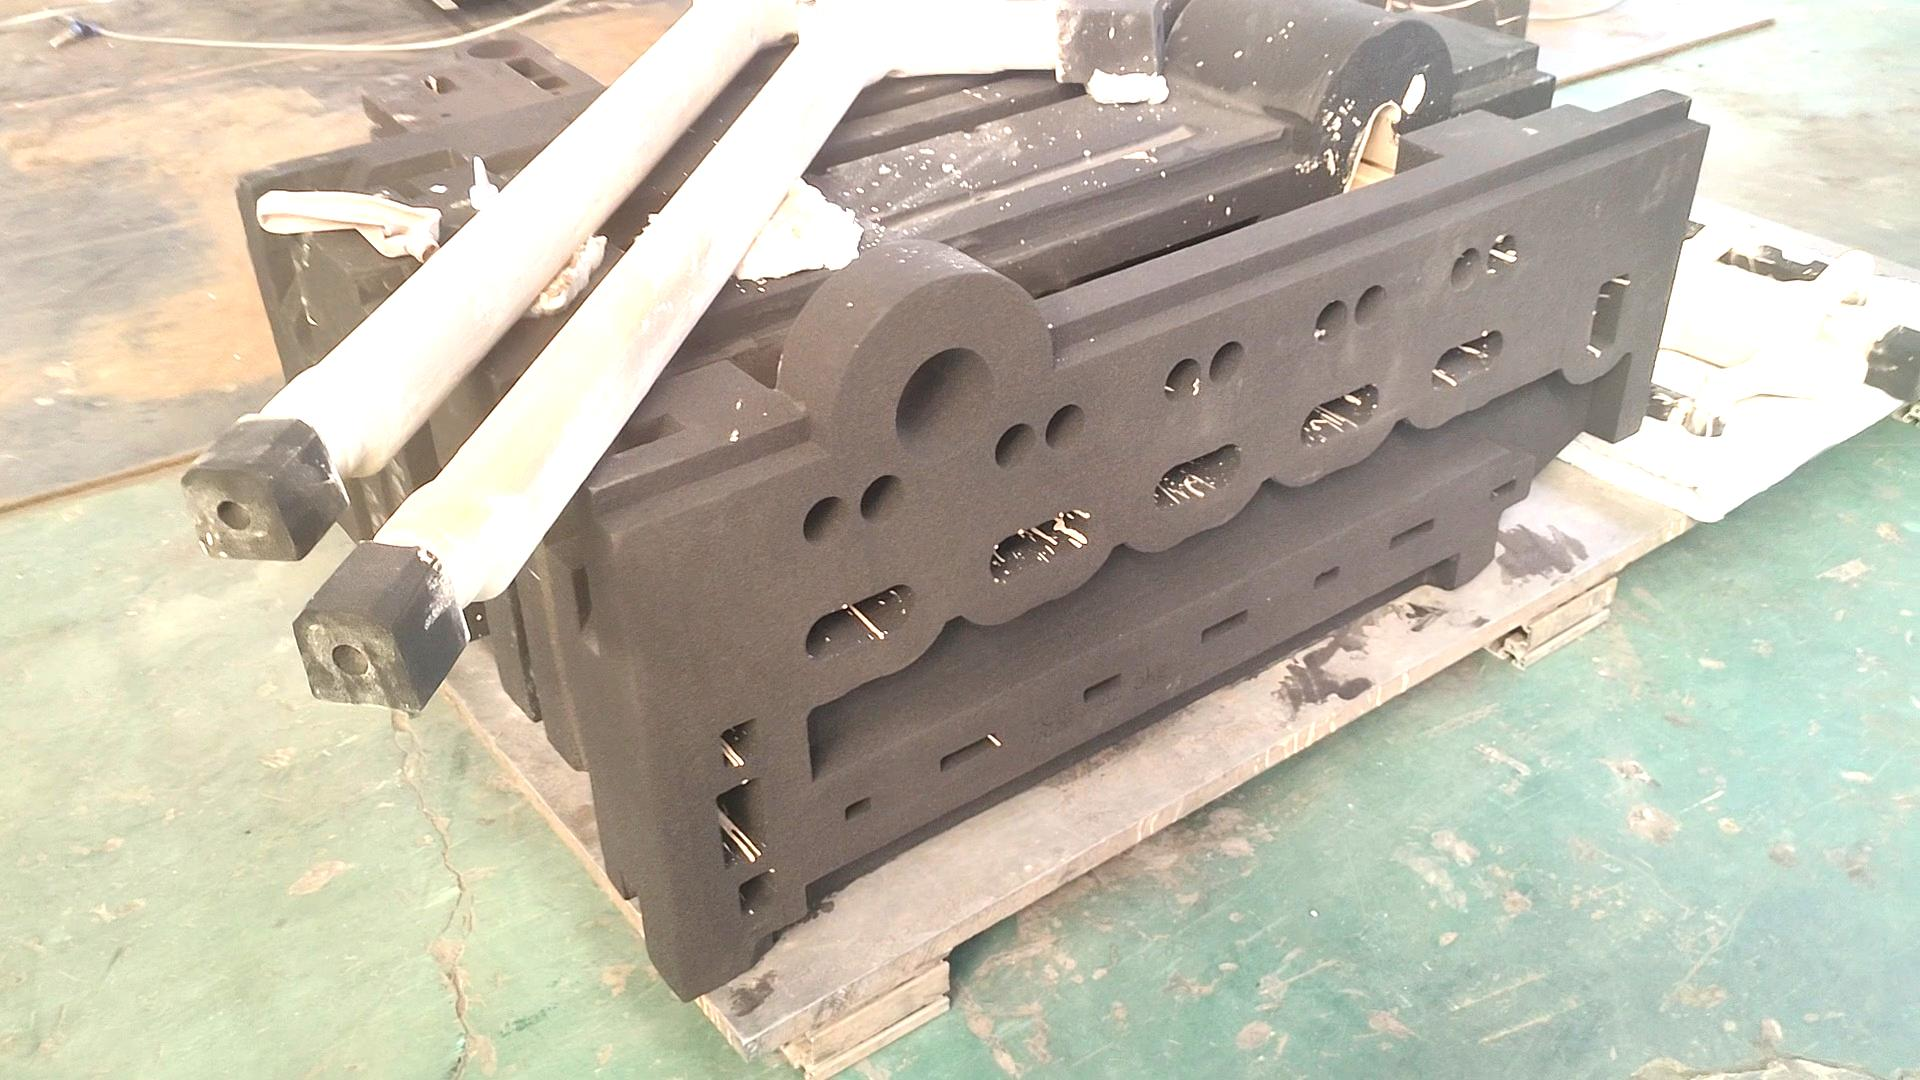pouring hole: (895, 347, 996, 463), (465, 38, 521, 57)
